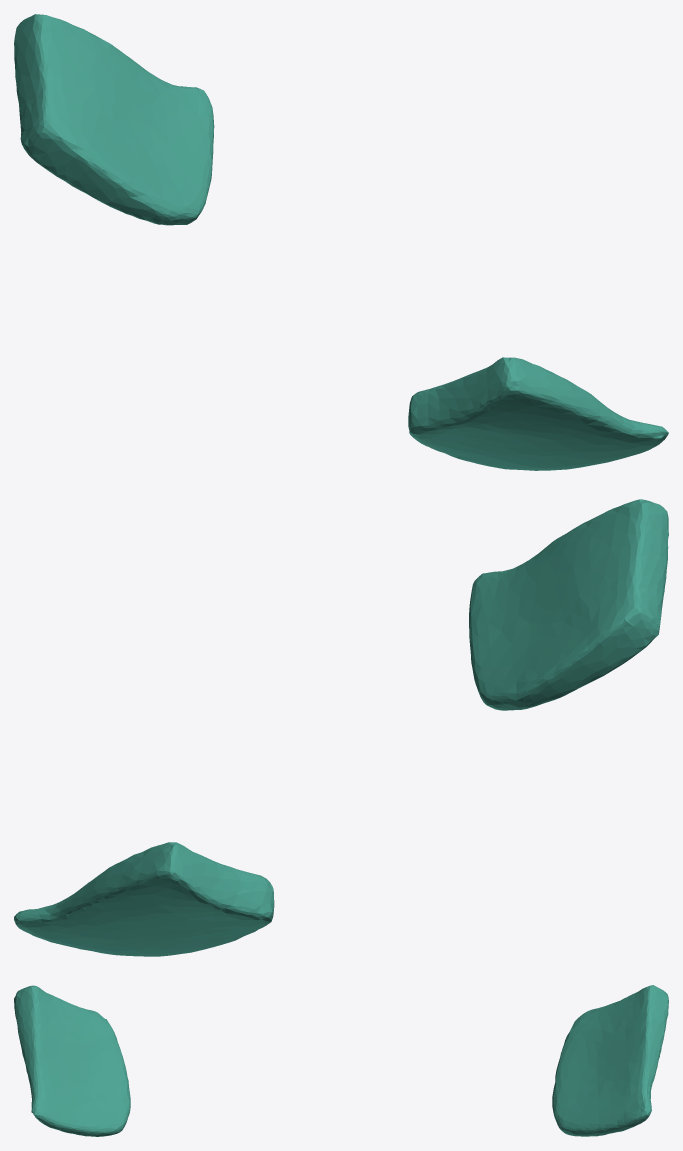
3 renders of one model, top to bottom at view 1: azimuth 30°, elevation 25°; view 2: azimuth 150°, elevation 25°; view 3: azimuth 270°, elevation 25°, orthographic. The views are drawn at different scales.
Parts seen in each view (by area): view 1: 1038.obj; view 2: 1038.obj; view 3: 1038.obj.
Part boxes in pixels (left/top/right/bottom): 1038.obj: left=14, top=14, right=668, bottom=470; 1038.obj: left=14, top=499, right=668, bottom=956; 1038.obj: left=14, top=985, right=668, bottom=1136.
Bounding box in the file's own units: 1889 × 1483 × 7376.
